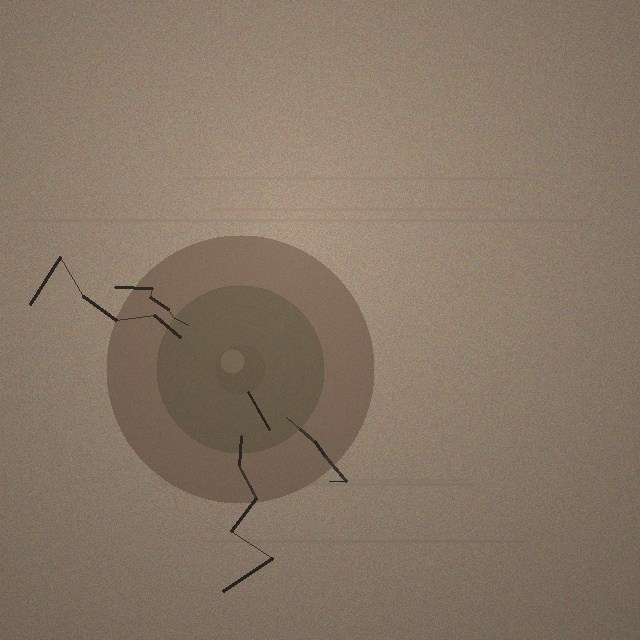crack: (106, 235, 374, 503)
